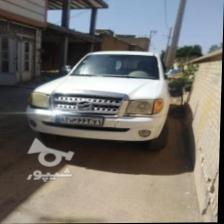plate: (54, 114, 105, 126)
